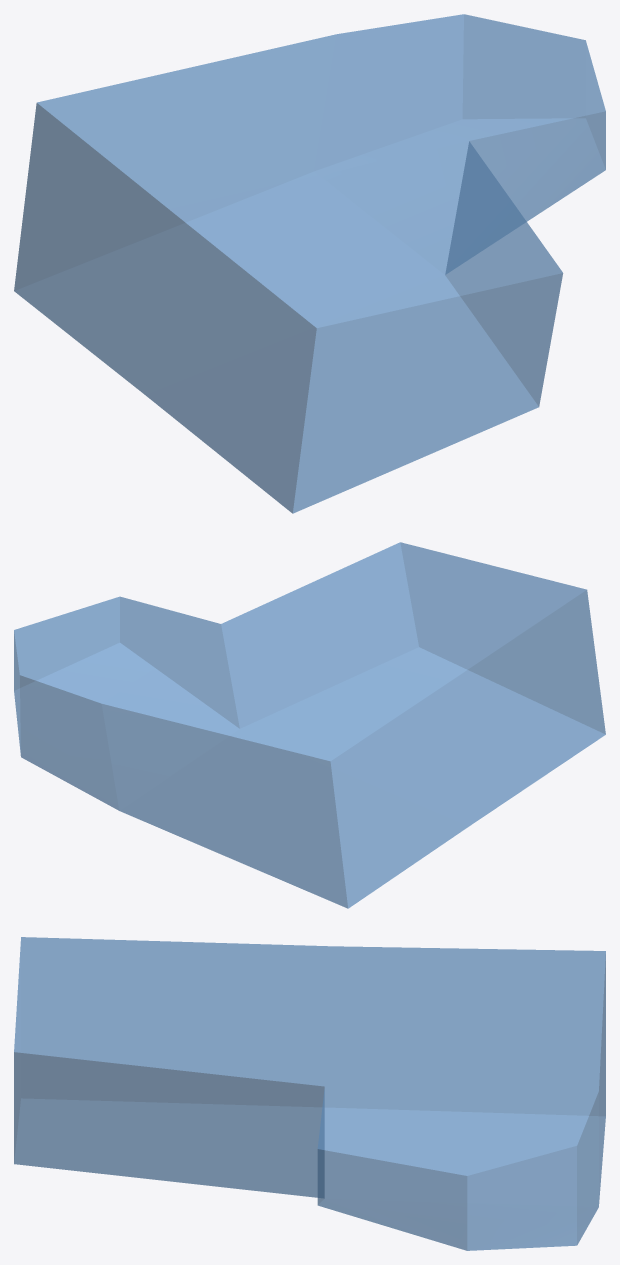
File: IceBridgeP01.FBX
The picture shows the model from 3 angles, top to bottom: view 1: azimuth 30°, elevation 25°; view 2: azimuth 150°, elevation 25°; view 3: azimuth 270°, elevation 25°; orthographic projection. The views are drawn at different scales.
Visible parts, largest first — view 1: IceBridgeP001; view 2: IceBridgeP001; view 3: IceBridgeP001.
Boxes of the visible parts, x1,y1,x2,y2 form: IceBridgeP001: (14,14,605,513); IceBridgeP001: (14,542,605,908); IceBridgeP001: (14,937,605,1250).
Bounding box in the file's own units: 90.66 × 30.67 × 92.07.
